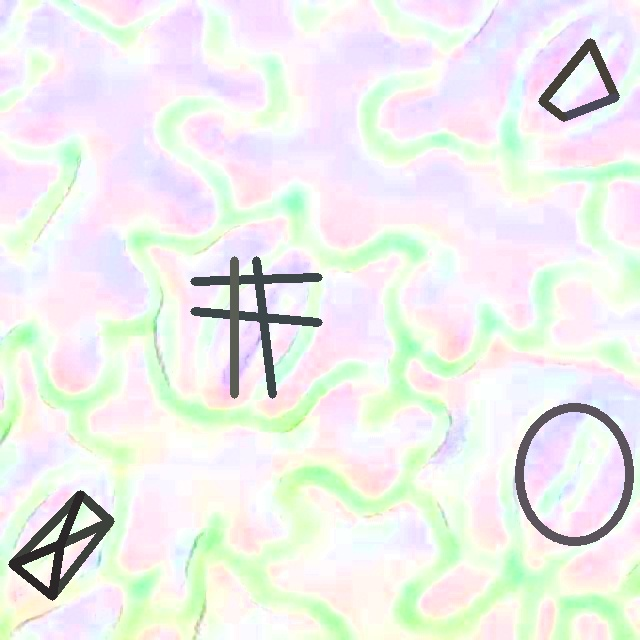open: (191, 256, 321, 397), (515, 402, 633, 546), (8, 490, 113, 599), (538, 38, 619, 121)
